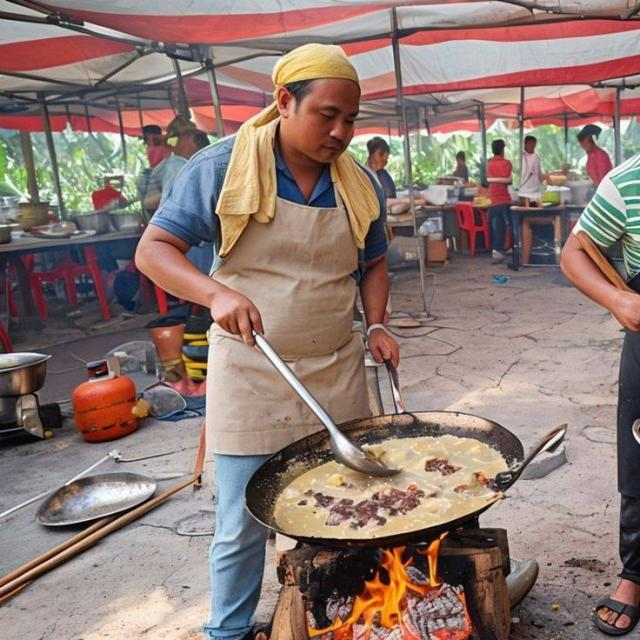fire: (310, 533, 472, 640)
